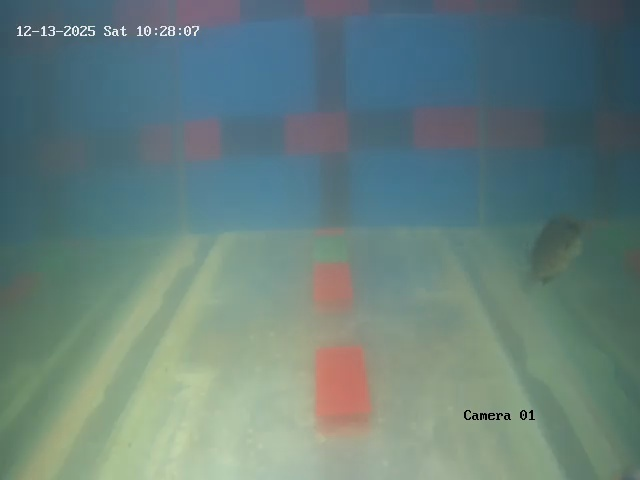fish: (523, 211, 578, 281)
